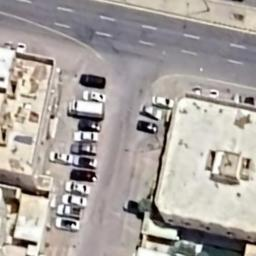pickup: (54, 204, 84, 218)
sedan: (56, 192, 92, 208), (65, 167, 100, 183), (60, 180, 94, 196), (48, 148, 74, 168), (52, 216, 84, 232), (80, 88, 110, 105), (123, 197, 145, 220), (76, 118, 106, 134), (67, 140, 99, 155), (138, 103, 166, 120), (72, 130, 102, 144), (150, 94, 178, 109), (72, 156, 101, 168), (206, 86, 222, 102), (190, 82, 204, 100), (243, 94, 256, 110), (230, 92, 244, 106)
truck: (65, 99, 106, 120)
van: (76, 70, 110, 90), (133, 116, 161, 136)
